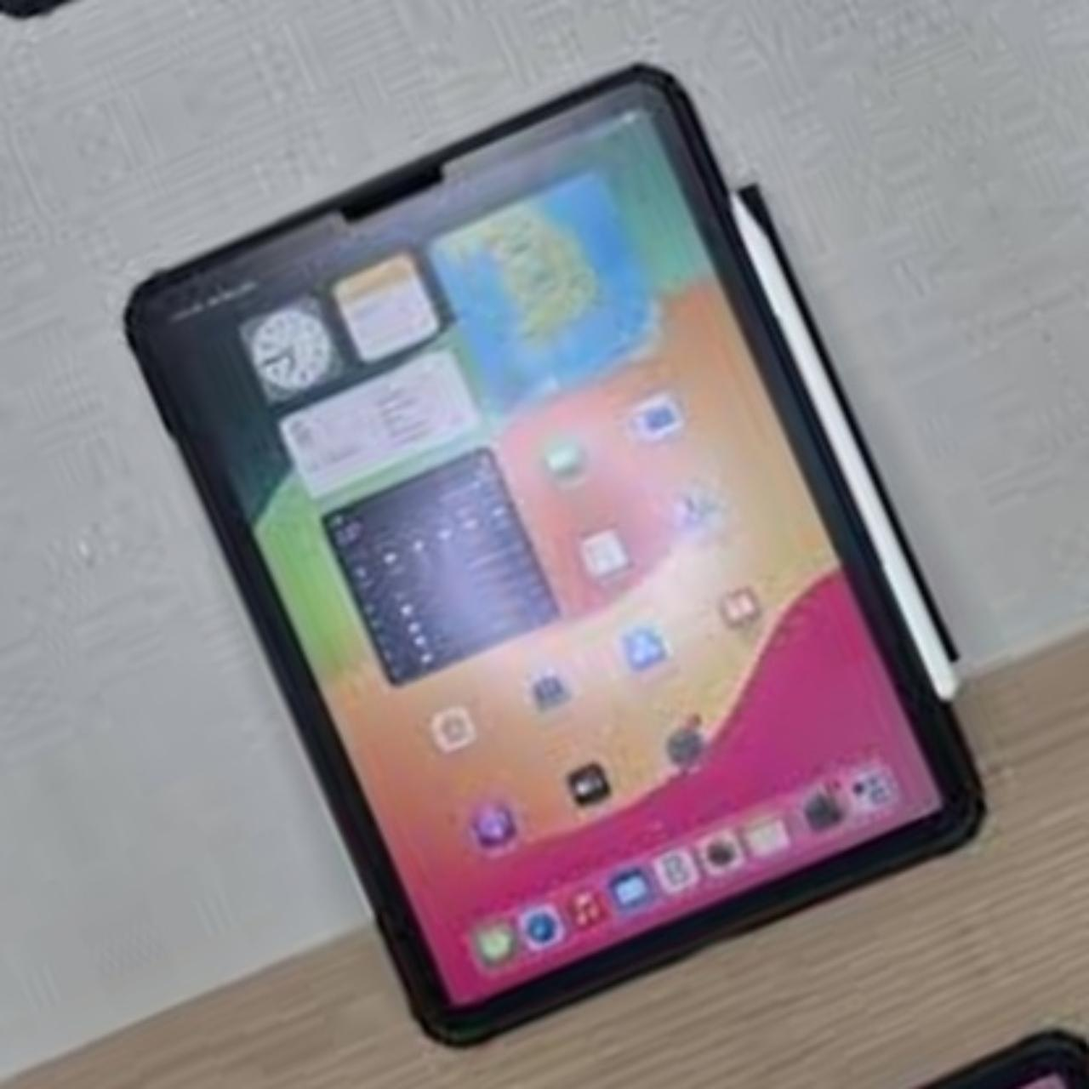Tablet_PC: (90, 22, 1053, 1082)
